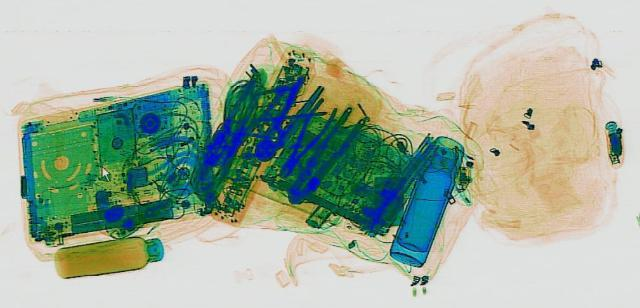Pliers: (270, 105, 376, 207)
